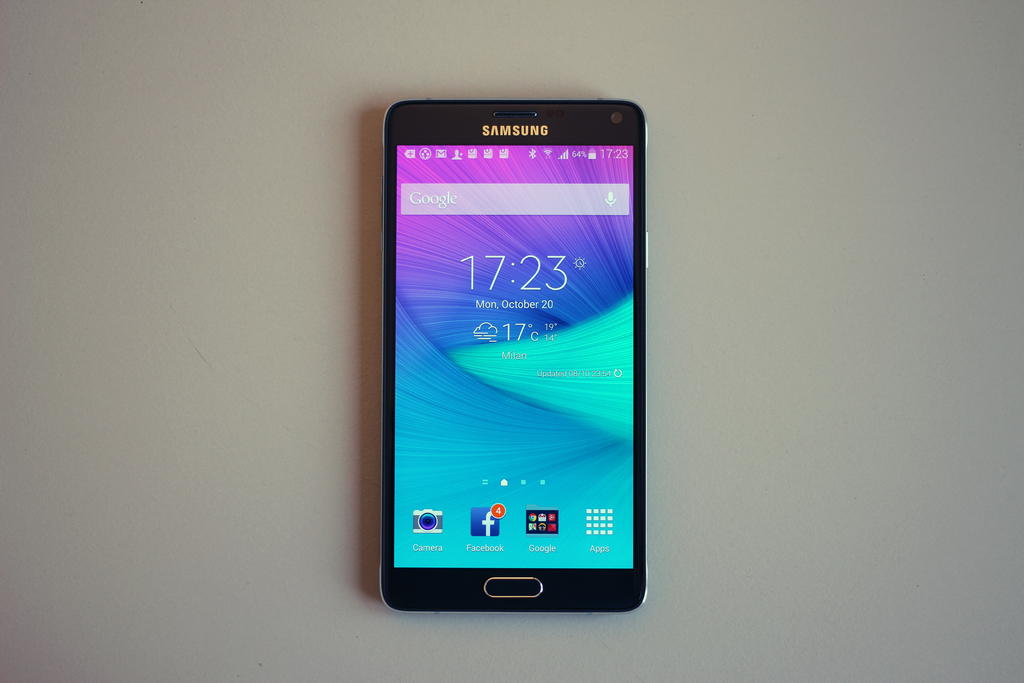mobile phone: (377, 95, 647, 619)
